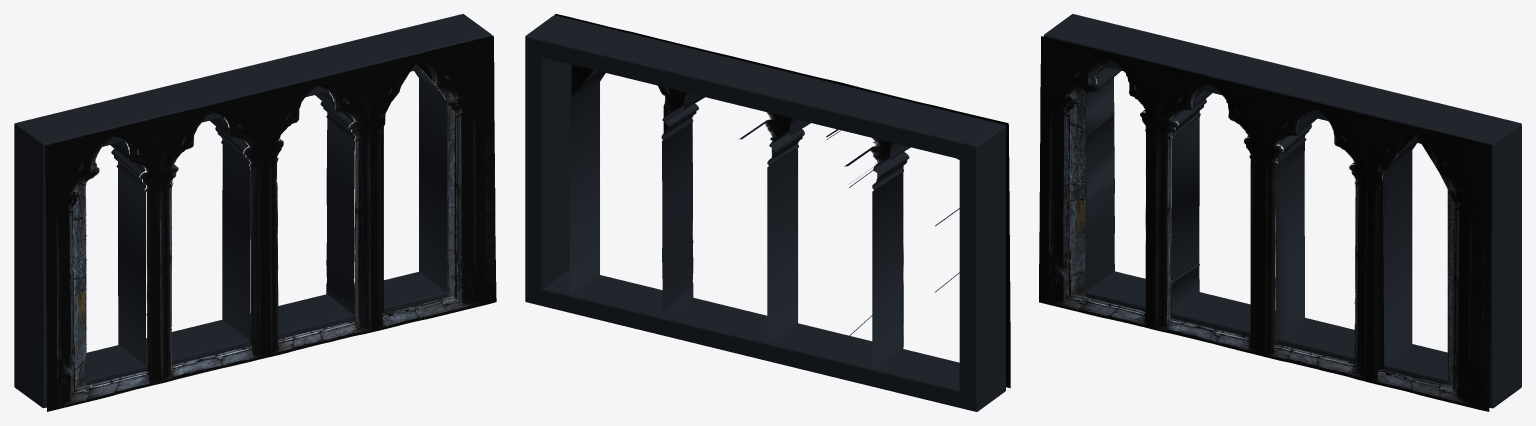
The model's file is ai_gothic_window_framic_dark_relief.glb.
3 views of the same model, side by side, from view 1: azimuth 30°, elevation 25°; view 2: azimuth 150°, elevation 25°; view 3: azimuth 330°, elevation 25° (orthographic).
Parts seen in each view (by area): view 1: AI Gothic Photoreal Front, Top wall depth, Heavy stone sill, Left wall depth, Open stone reveal 2, Open stone reveal 4, Open stone reveal 1, Open stone reveal 3; view 2: Top wall depth, Heavy stone sill, Left wall depth, Right wall depth, Open stone reveal 1, Open stone reveal 2, Open stone reveal 4, Open stone reveal 3, AI Gothic Photoreal Front; view 3: AI Gothic Photoreal Front, Top wall depth, Right wall depth, Heavy stone sill, Open stone reveal 4, Open stone reveal 3, Open stone reveal 2, Open stone reveal 1.
Part boxes in pixels (box(x1,y1,x2,y2)): AI Gothic Photoreal Front: box(45, 35, 496, 411); Top wall depth: box(14, 14, 491, 159); Heavy stone sill: box(14, 266, 447, 408); Left wall depth: box(14, 121, 59, 407); Open stone reveal 2: box(278, 91, 354, 338); Open stone reveal 4: box(110, 141, 146, 366); Open stone reveal 1: box(146, 117, 250, 340); Open stone reveal 3: box(414, 64, 446, 292); Top wall depth: box(525, 15, 1005, 161); Heavy stone sill: box(525, 270, 1005, 411); Left wall depth: box(959, 126, 1005, 411); Right wall depth: box(525, 37, 571, 305); Open stone reveal 1: box(767, 118, 876, 344); Open stone reveal 2: box(661, 92, 769, 318); Open stone reveal 4: box(872, 143, 959, 369); Open stone reveal 3: box(569, 70, 605, 295); AI Gothic Photoreal Front: box(554, 14, 1010, 388); AI Gothic Photoreal Front: box(1039, 36, 1492, 411); Top wall depth: box(1043, 14, 1521, 160); Right wall depth: box(1476, 120, 1521, 408); Heavy stone sill: box(1086, 271, 1521, 408); Open stone reveal 4: box(1086, 66, 1145, 296); Open stone reveal 3: box(1383, 136, 1416, 364); Open stone reveal 2: box(1275, 115, 1354, 344); Open stone reveal 1: box(1171, 89, 1248, 317).
Size of the model in its own units: 6.4 by 3.6 by 0.82.
Materials: 2 (1 with a texture image).
